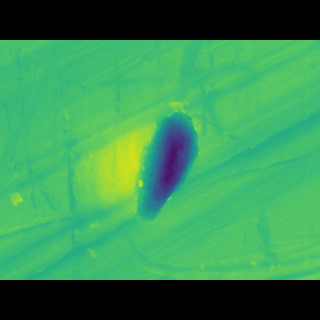Loch: (0, 122, 127, 243), (130, 113, 206, 208)
